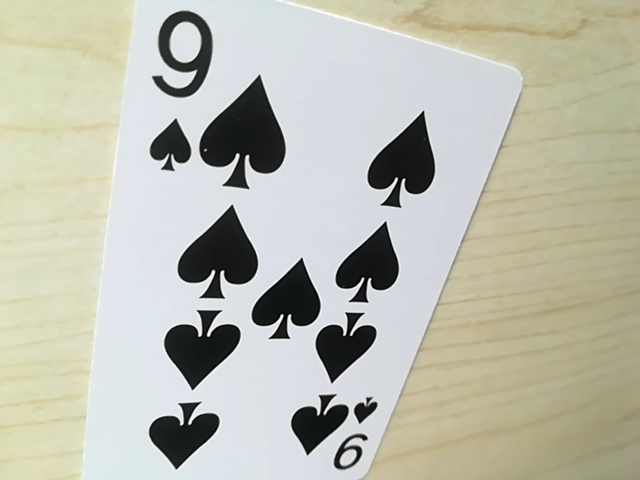ht 9: (133, 0, 219, 184), (320, 397, 379, 480)
